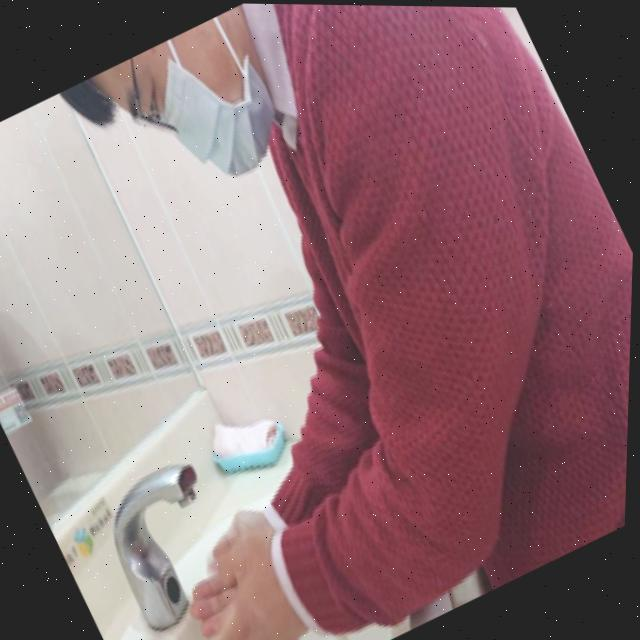Mask: (129, 4, 314, 201)
